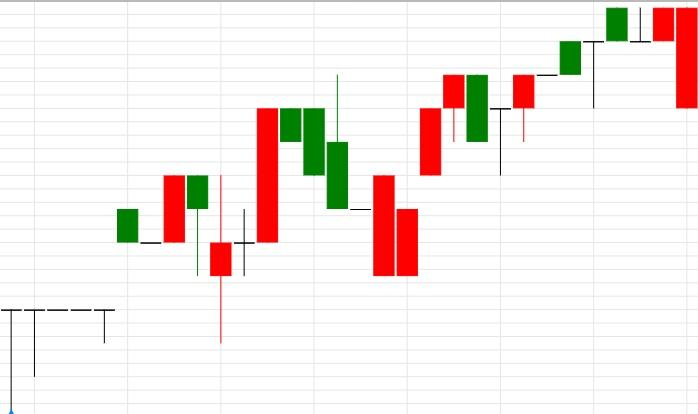bearish_engulfing_fall: (373, 75, 488, 276)
hanging_man_fall: (117, 175, 209, 277)
three_white_soldiers_rise: (280, 74, 466, 277)
